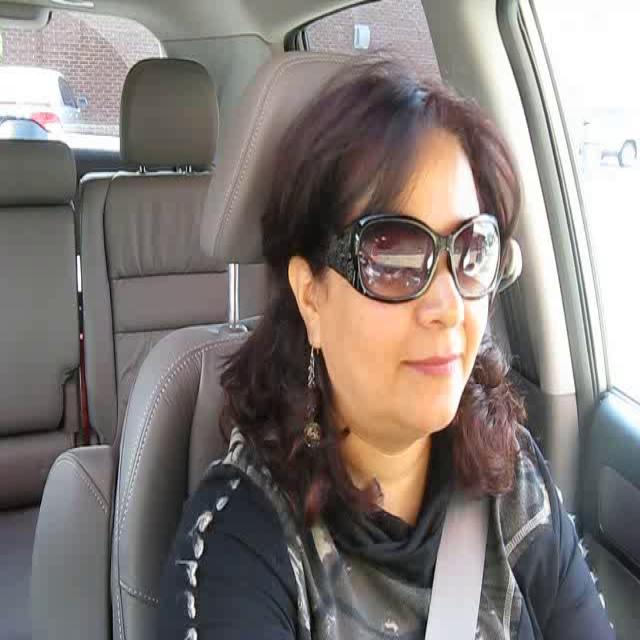close: (398, 346, 472, 384)
